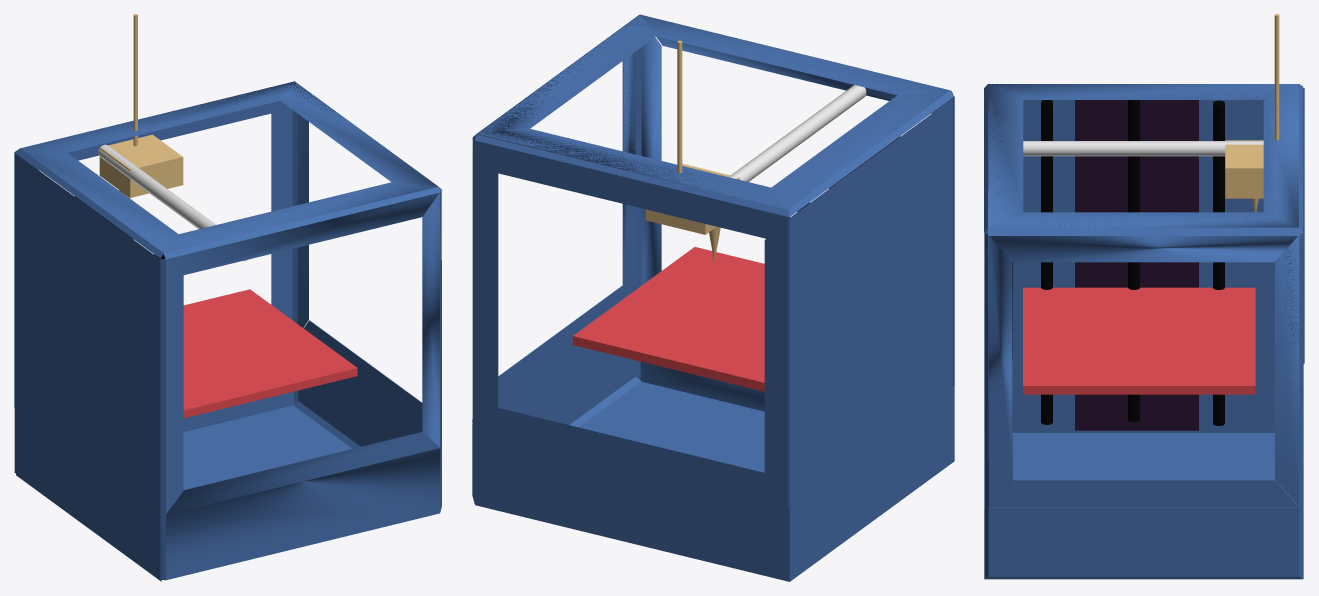
3 views of the same model, side by side, from view 1: azimuth 30°, elevation 25°; view 2: azimuth 150°, elevation 25°; view 3: azimuth 270°, elevation 25° (orthographic). The views are drawn at different scales.
Parts seen in each view (by area): view 1: Куб, Куб.001, Цилиндр.003, Цилиндр.005; view 2: Куб, Куб.001, Цилиндр.005, Цилиндр.003; view 3: Куб, Куб.001, Куб.002, Цилиндр.005, Цилиндр.003, Цилиндр.002, Цилиндр, Цилиндр.001.
Part boxes in pixels (bbox=[...]): Куб: bbox=[14, 81, 442, 581]; Куб.001: bbox=[183, 289, 357, 418]; Цилиндр.003: bbox=[99, 14, 183, 198]; Цилиндр.005: bbox=[98, 144, 247, 261]; Куб: bbox=[472, 14, 954, 581]; Куб.001: bbox=[572, 247, 764, 391]; Цилиндр.005: bbox=[728, 85, 866, 181]; Цилиндр.003: bbox=[645, 40, 739, 261]; Куб: bbox=[984, 84, 1304, 579]; Куб.001: bbox=[1023, 287, 1255, 394]; Куб.002: bbox=[1075, 100, 1198, 430]; Цилиндр.005: bbox=[1023, 141, 1263, 156]; Цилиндр.003: bbox=[1225, 14, 1279, 212]; Цилиндр.002: bbox=[1213, 100, 1224, 425]; Цилиндр: bbox=[1041, 100, 1052, 424]; Цилиндр.001: bbox=[1128, 100, 1139, 422].
Size of the model in its own units: 1043 by 1558 by 949.
